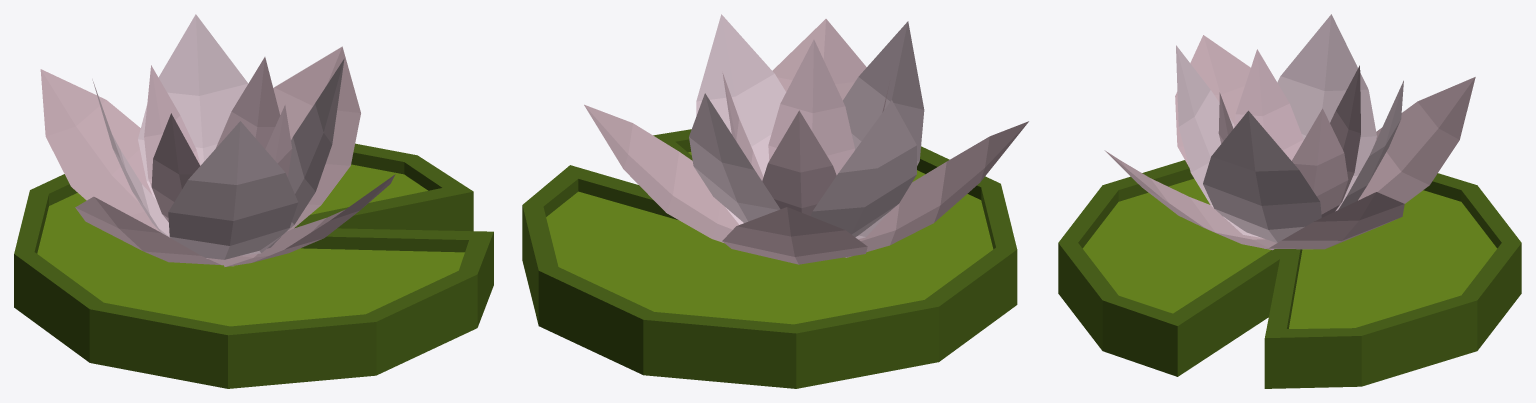
Rendered from WaterLily_Lime_Flower_2.fbx.
3 renders of one model, left to right at view 1: azimuth 30°, elevation 25°; view 2: azimuth 150°, elevation 25°; view 3: azimuth 270°, elevation 25°, orthographic. The views are drawn at different scales.
Parts seen in each view (by area): view 1: Cylinder.591, Cylinder.594, Plane.148, Plane.153, Plane.144; view 2: Cylinder.591, Cylinder.594, Plane.148, Plane.153, Plane.144; view 3: Cylinder.591, Cylinder.594, Plane.148, Plane.153, Plane.144.
Part boxes in pixels (left/top/right/bottom): Cylinder.591: left=14, top=143, right=493, bottom=388; Cylinder.594: left=37, top=164, right=464, bottom=326; Plane.148: left=92, top=14, right=344, bottom=259; Plane.153: left=40, top=46, right=395, bottom=266; Plane.144: left=144, top=57, right=292, bottom=222; Cylinder.591: left=522, top=129, right=1017, bottom=388; Cylinder.594: left=546, top=152, right=993, bottom=324; Plane.148: left=689, top=14, right=924, bottom=239; Plane.153: left=584, top=19, right=1028, bottom=264; Plane.144: left=722, top=39, right=890, bottom=215; Cylinder.591: left=1058, top=160, right=1521, bottom=388; Cylinder.594: left=1082, top=179, right=1497, bottom=328; Plane.148: left=1176, top=14, right=1403, bottom=242; Plane.153: left=1104, top=35, right=1475, bottom=250; Plane.144: left=1218, top=49, right=1360, bottom=217.
Size of the model in its own units: 116 by 60.98 by 119.
